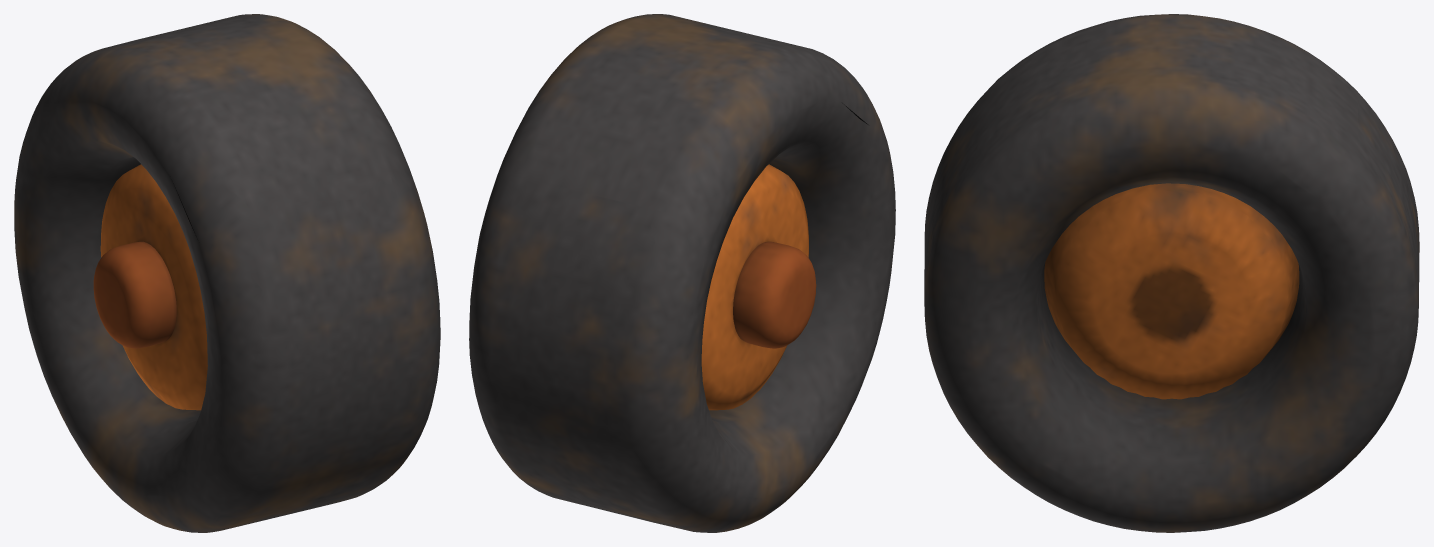
3 views of the same model, side by side, from view 1: azimuth 30°, elevation 25°; view 2: azimuth 150°, elevation 25°; view 3: azimuth 270°, elevation 25° (orthographic).
Visible parts, largest first — view 1: wheel_RR; view 2: wheel_RR; view 3: wheel_RR.
Part boxes in pixels (<box>): wheel_RR: <box>14,14,440,532</box>; wheel_RR: <box>469,14,895,532</box>; wheel_RR: <box>924,14,1419,532</box>.
Bounding box in the file's own units: 0.1865 × 0.3593 × 0.3591.
1 material, 1 textured.
